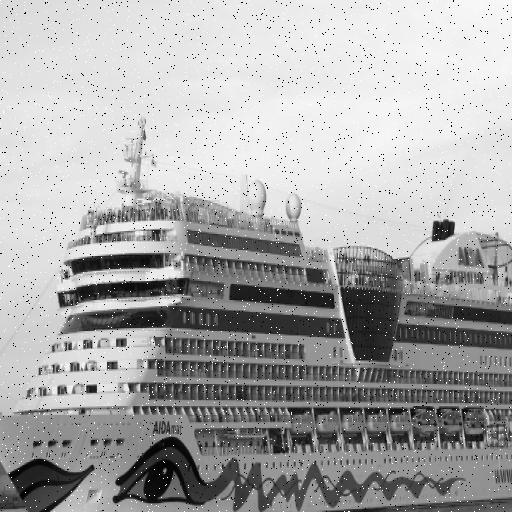cruises: (1, 96, 512, 512)
